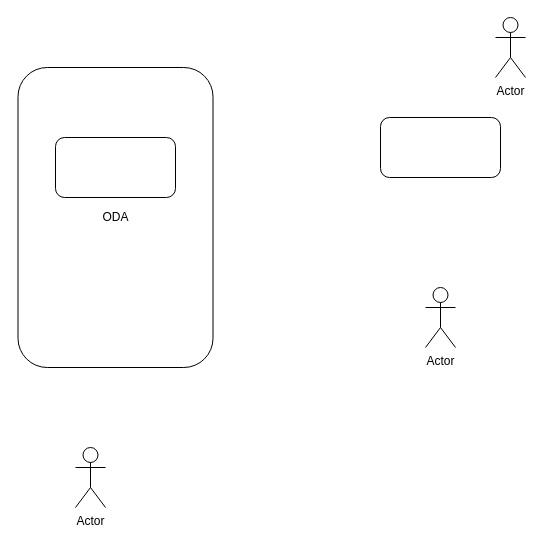
This 543x546 diagram has some shape labels left out. The shapes that lost their labels are listed below. From the top down, each one's centre as x and y in pixels, then its label:
At pixel 115 167: "API Gateway".
At pixel 440 147: "HPC Workers".
